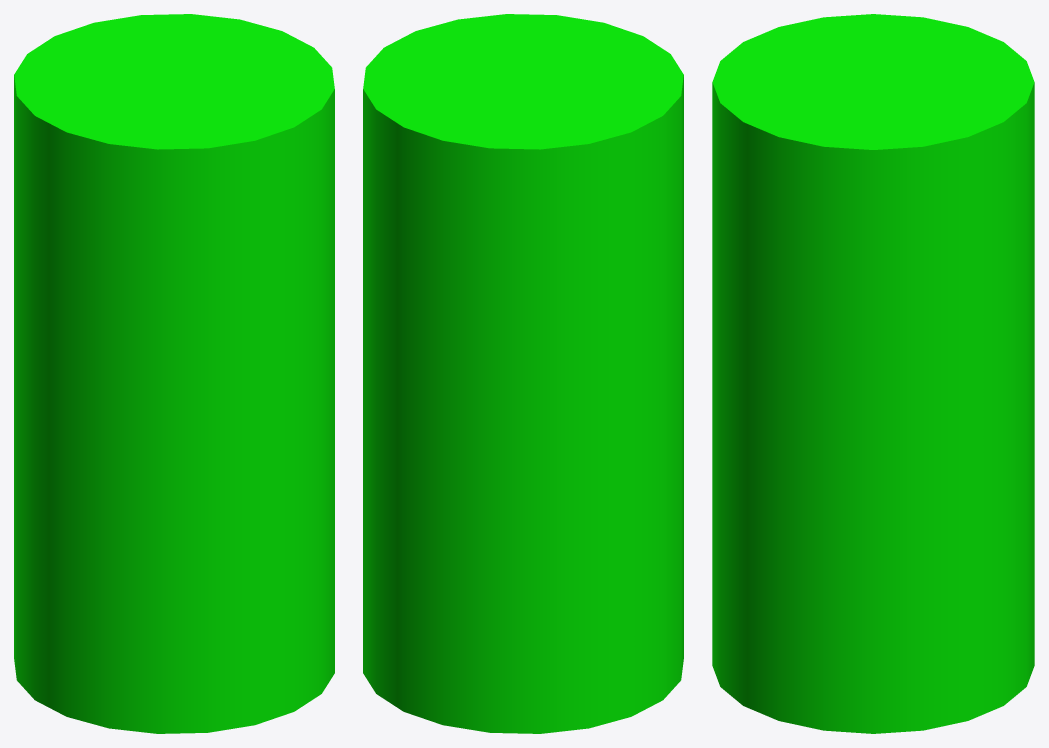
File: TrashBinSmall.fbx
The picture shows the model from 3 angles, left to right: view 1: azimuth 30°, elevation 25°; view 2: azimuth 150°, elevation 25°; view 3: azimuth 270°, elevation 25°; orthographic projection.
Parts seen in each view (by area): view 1: Lampost__1_; view 2: Lampost__1_; view 3: Lampost__1_.
Part boxes in pixels (<box>): Lampost__1_: <box>14,14,334,733</box>; Lampost__1_: <box>363,14,683,733</box>; Lampost__1_: <box>712,14,1034,733</box>.
Bounding box in the file's own units: 50 × 100 × 50.
